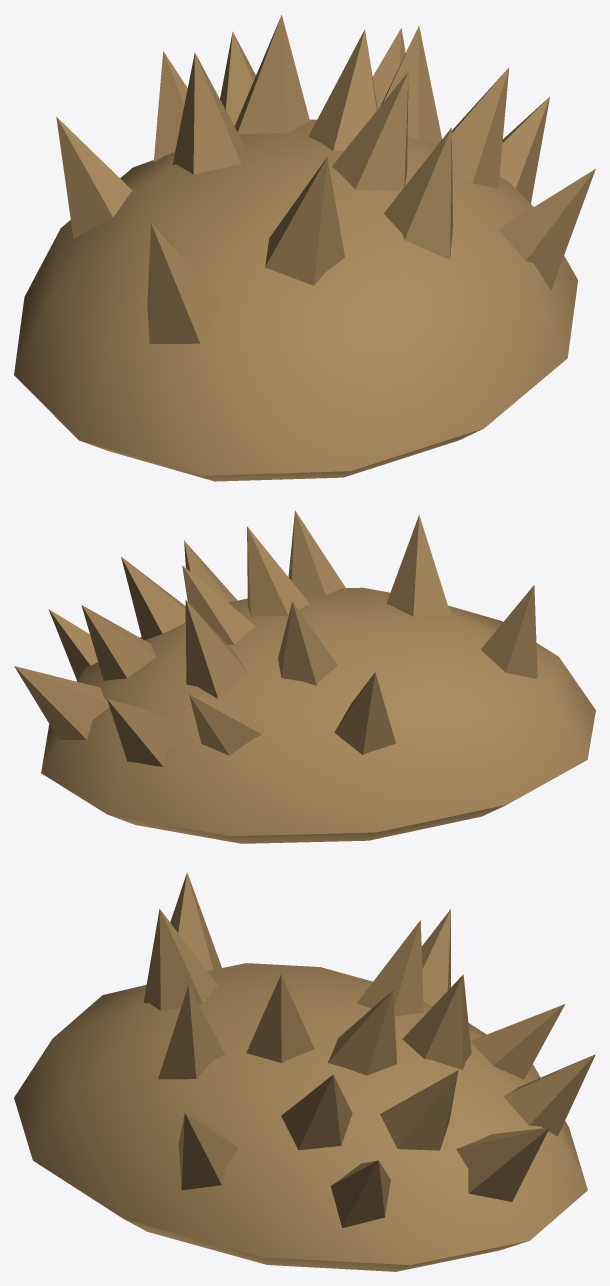
The model's file is hedgehog.fbx.
3 renders of one model, top to bottom at view 1: azimuth 30°, elevation 25°; view 2: azimuth 150°, elevation 25°; view 3: azimuth 270°, elevation 25°, orthographic. The views are drawn at different scales.
Visible parts, largest first — view 1: Sphere, Cone_14, Cone_2, Cone_12, Cone_13, Cone_11, Cone_1, Cone_4, Cone_5, Cone, Cone_6, Cone_3 (+4 smaller); view 2: Sphere, Cone_8, Cone_1, Cone_14, Cone_12, Cone_2, Cone_9, Cone_3, Cone_11, Cone_10, Cone_5, Cone (+4 smaller); view 3: Sphere, Cone_8, Cone_14, Cone_3, Cone_1, Cone_6, Cone, Cone_9, Cone_13, Cone_4, Cone_11, Cone_10 (+4 smaller).
Boxes of the visible parts, x1,y1,x2,y2 form: Sphere: (14, 119, 577, 481); Cone_14: (265, 157, 344, 285); Cone_2: (147, 223, 222, 343); Cone_12: (332, 71, 408, 191); Cone_13: (384, 128, 453, 259); Cone_11: (172, 52, 245, 174); Cone_1: (234, 15, 309, 134); Cone_4: (498, 169, 595, 290); Cone_5: (56, 117, 132, 238); Cone: (451, 67, 509, 188); Cone_6: (308, 29, 377, 150); Cone_3: (381, 26, 441, 144); Sphere: (41, 587, 595, 843); Cone_8: (14, 666, 109, 740); Cone_1: (185, 600, 248, 698); Cone_14: (386, 515, 450, 616); Cone_12: (247, 526, 309, 616); Cone_2: (481, 585, 537, 678); Cone_9: (107, 698, 181, 767); Cone_3: (81, 605, 156, 680); Cone_11: (278, 601, 337, 685); Cone_10: (189, 694, 261, 755); Cone_5: (334, 672, 395, 754); Cone: (121, 556, 185, 639); Sphere: (14, 963, 587, 1271); Cone_8: (456, 1127, 549, 1201); Cone_14: (143, 909, 217, 1010); Cone_3: (380, 1070, 458, 1150); Cone_1: (402, 974, 471, 1069); Cone_6: (328, 990, 396, 1075); Cone: (281, 1074, 352, 1150); Cone_9: (503, 1054, 595, 1136); Cone_13: (158, 985, 225, 1079); Cone_4: (178, 1113, 238, 1190); Cone_11: (357, 920, 423, 1016); Cone_10: (470, 1004, 564, 1079).
Bounding box in the file's own units: 18.22 × 8.62 × 17.86.
